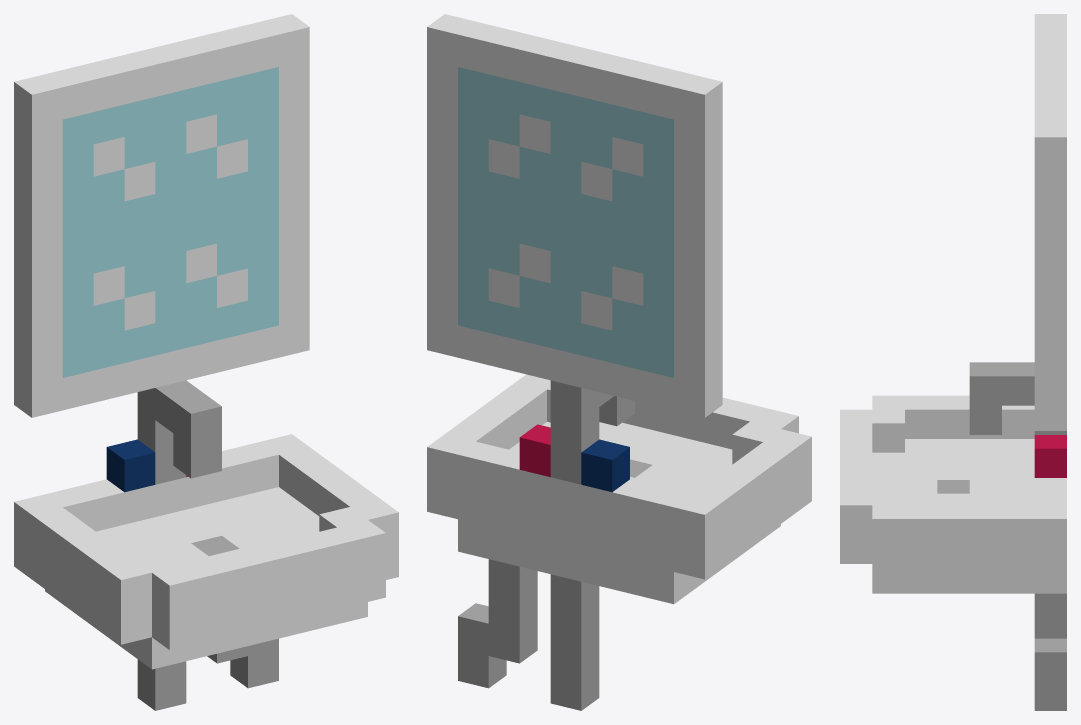
The model's file is sink+mirror.obj.
3 views of the same model, side by side, from view 1: azimuth 30°, elevation 25°; view 2: azimuth 150°, elevation 25°; view 3: azimuth 270°, elevation 25° (orthographic). The views are drawn at different scales.
Size of the model in its own units: 0.9 by 2 by 0.7.
1 material, 1 textured.
